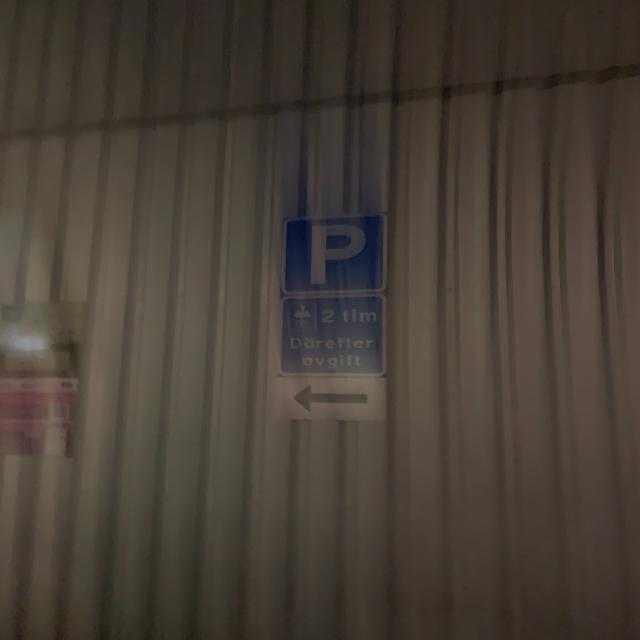psign: (283, 214, 387, 296)
